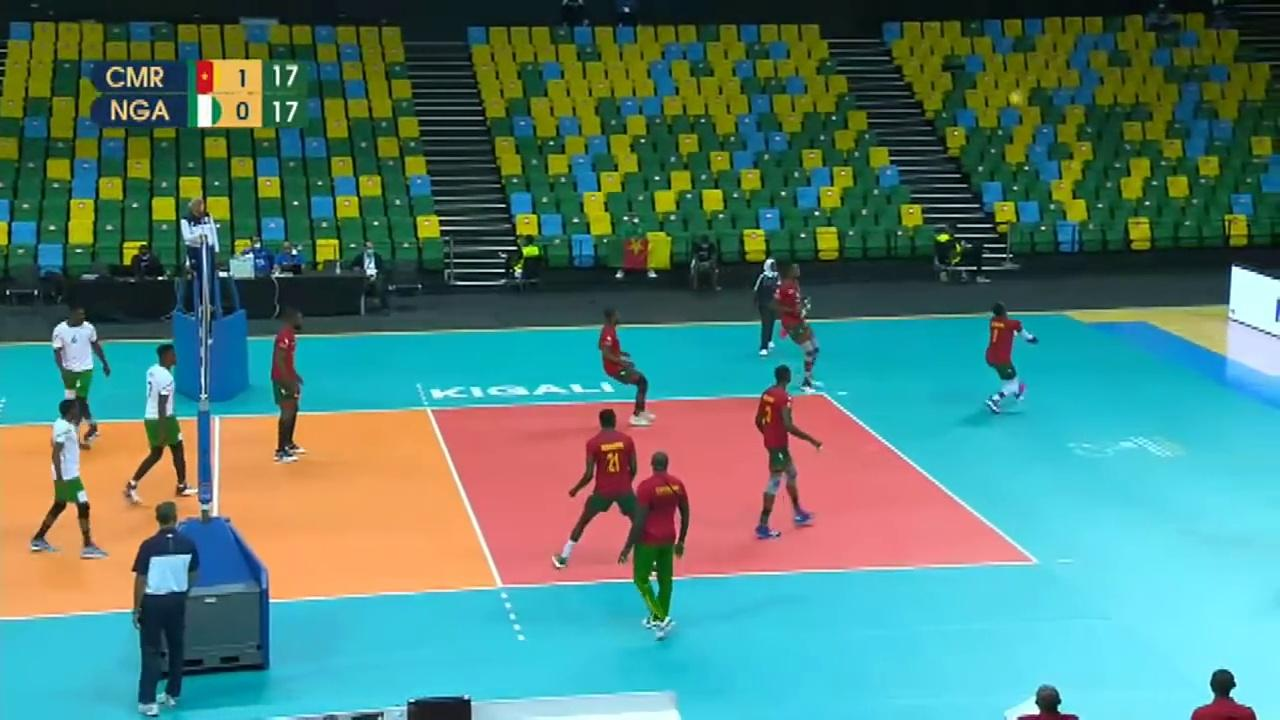player: (551, 415, 636, 565), (754, 367, 827, 537), (33, 400, 108, 553), (122, 345, 197, 498), (55, 308, 112, 445), (776, 262, 829, 397), (599, 309, 652, 422), (982, 302, 1035, 412), (273, 311, 310, 459)
refree: (127, 498, 204, 719), (180, 199, 220, 306), (753, 258, 781, 357)
